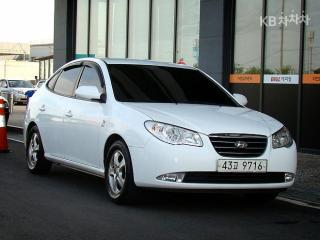1: (253, 162, 258, 171)
3: (227, 160, 233, 170)
4: (222, 160, 227, 170)
6: (257, 162, 263, 170)
7: (248, 161, 253, 170)
9: (241, 161, 248, 171)
plate: (215, 157, 271, 175)
고: (233, 161, 240, 171)
